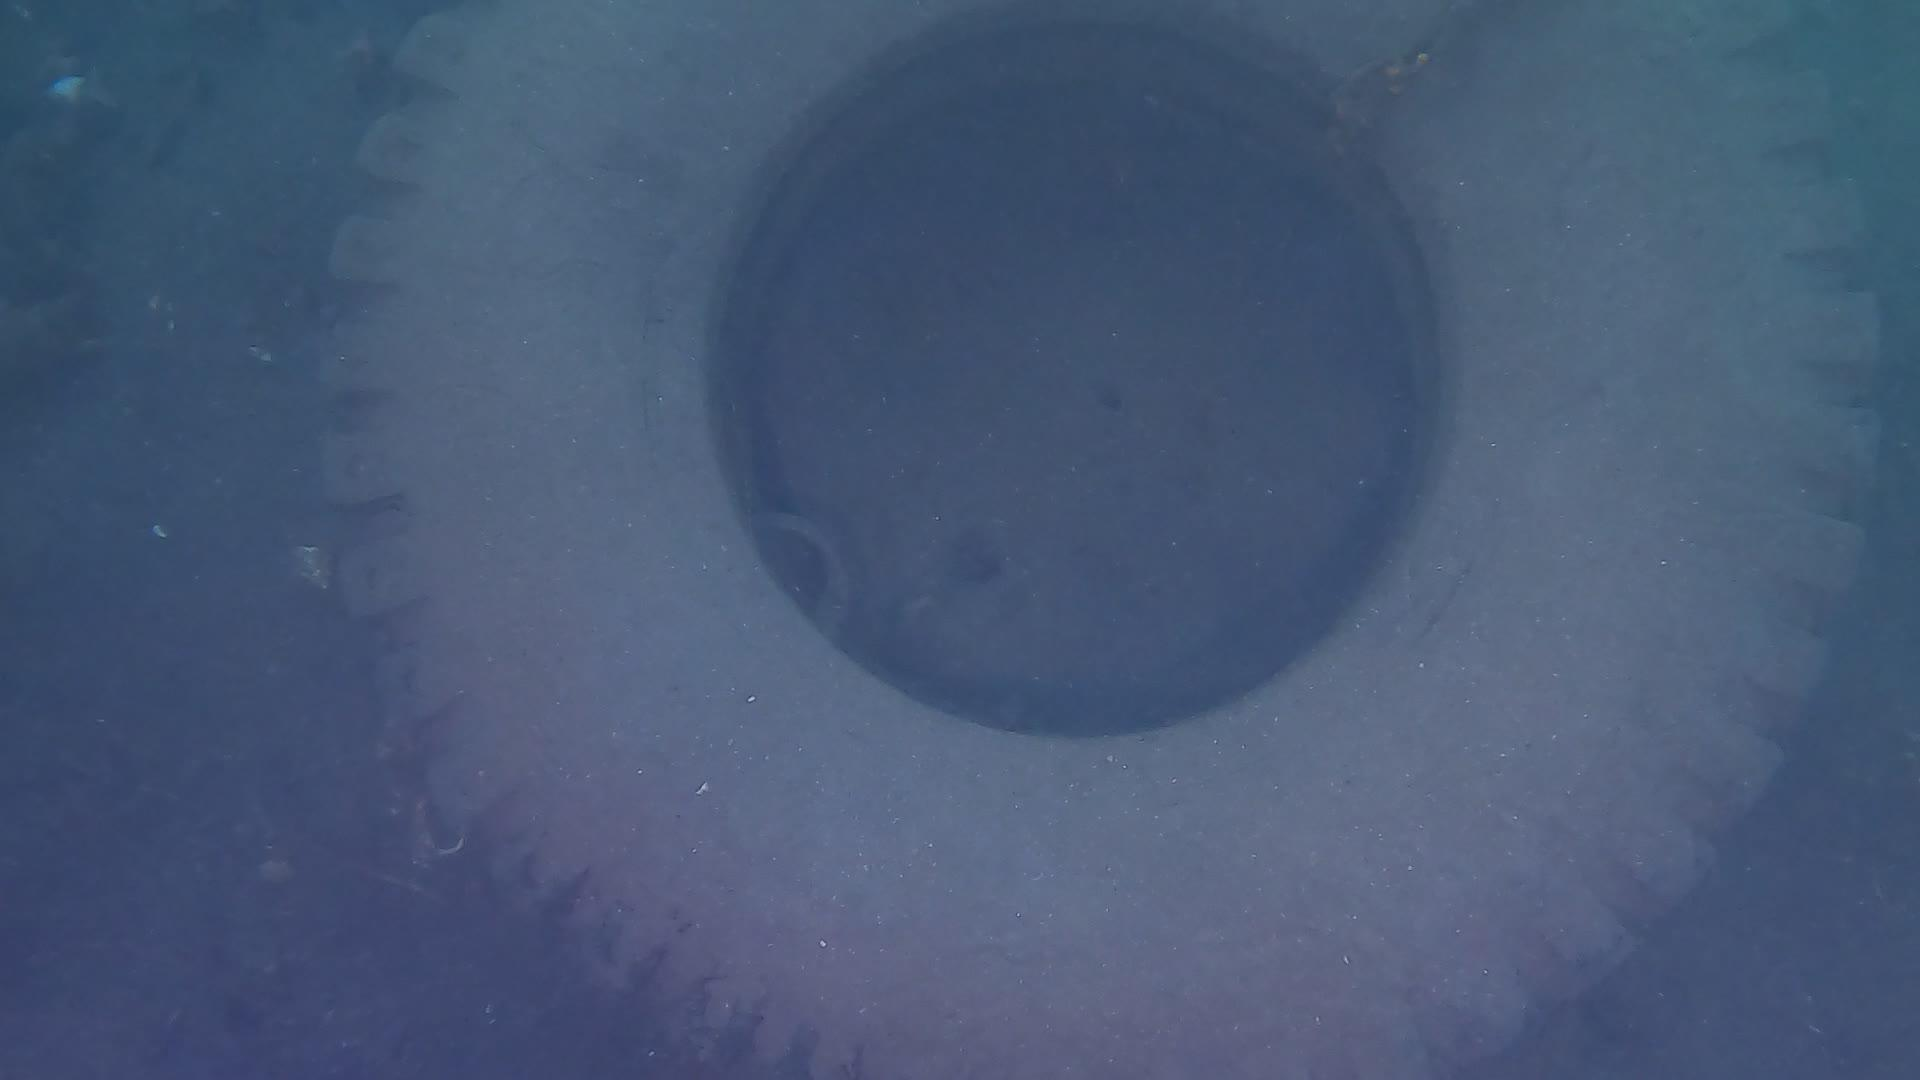tire: (311, 0, 1883, 1080)
